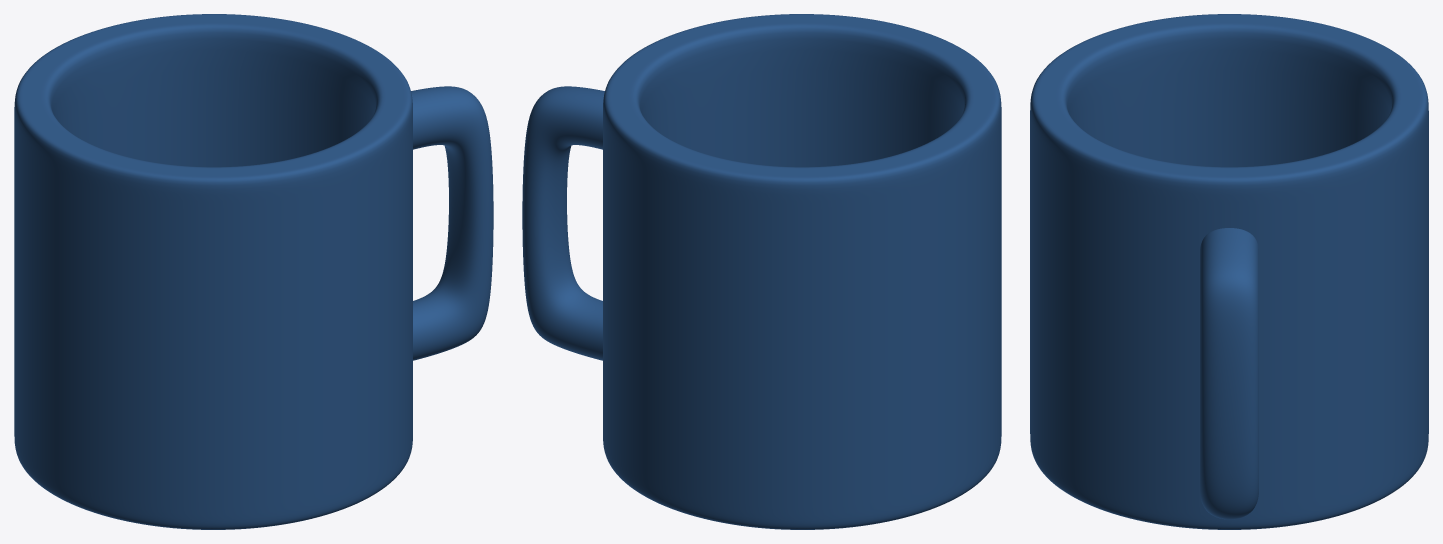
File: cup.gltf
3 renders of one model, left to right at view 1: azimuth 30°, elevation 25°; view 2: azimuth 150°, elevation 25°; view 3: azimuth 270°, elevation 25°, orthographic.
Visible parts, largest first — view 1: Cube; view 2: Cube; view 3: Cube.
Part boxes in pixels (left/top/right/bottom): Cube: left=14, top=14, right=493, bottom=529; Cube: left=522, top=14, right=1001, bottom=529; Cube: left=1030, top=14, right=1428, bottom=529.
Size of the model in its own units: 2.56 by 1.94 by 1.99.
